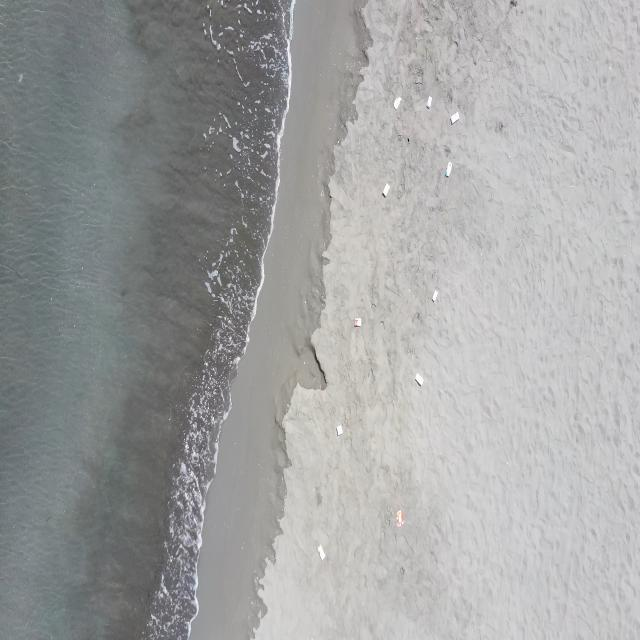Garbage: (395, 510, 404, 526), (449, 111, 459, 123), (316, 544, 324, 559), (444, 161, 452, 176), (392, 96, 400, 108), (415, 372, 423, 384), (335, 424, 343, 435), (382, 183, 388, 196), (352, 316, 359, 327), (426, 96, 431, 108), (433, 289, 437, 301)
